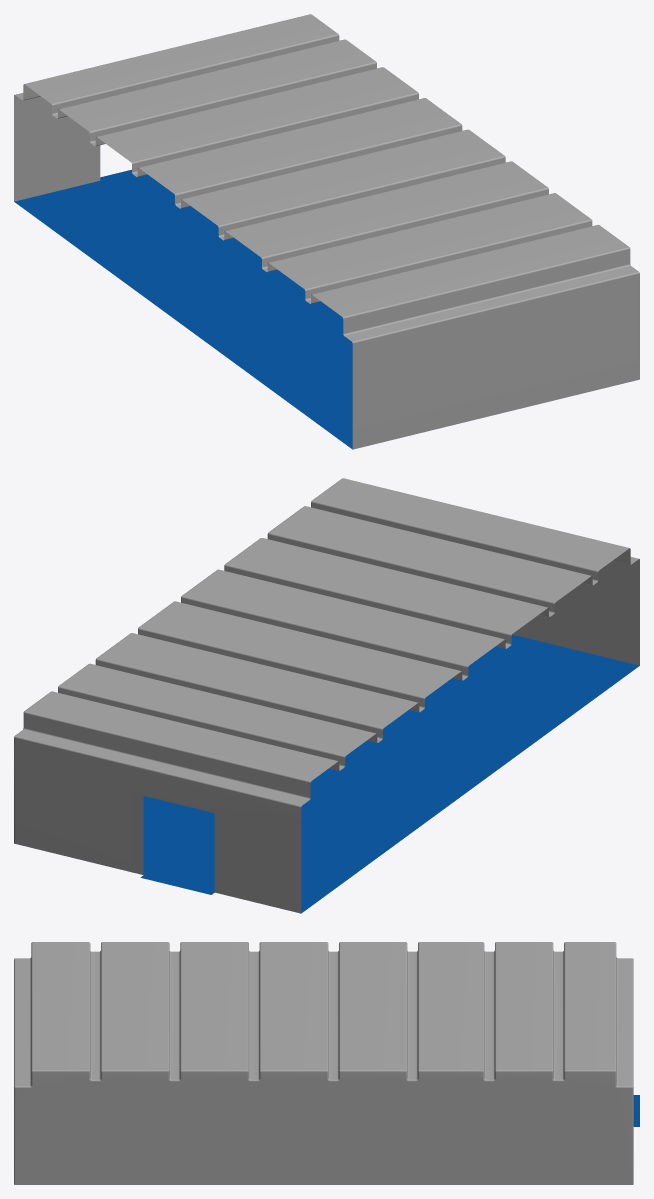
Rendered from SM_room_production_1.fbx.
3 renders of one model, top to bottom at view 1: azimuth 30°, elevation 25°; view 2: azimuth 150°, elevation 25°; view 3: azimuth 270°, elevation 25°, orthographic. The views are drawn at different scales.
Visible parts, largest first — view 1: SM_room_production_1; view 2: SM_room_production_1; view 3: SM_room_production_1.
Part boxes in pixels (box(x1,y1,x2,y2)): SM_room_production_1: box(14, 14, 639, 449); SM_room_production_1: box(14, 478, 639, 913); SM_room_production_1: box(14, 942, 639, 1184).
Size of the model in its own units: 8.04 by 3.34 by 16.54.
